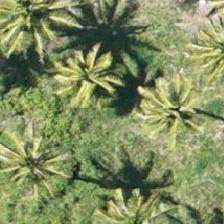coconut_tree: (39, 25, 129, 115), (139, 77, 223, 167), (97, 152, 187, 223), (0, 114, 70, 204), (170, 0, 223, 82), (0, 0, 60, 56)
